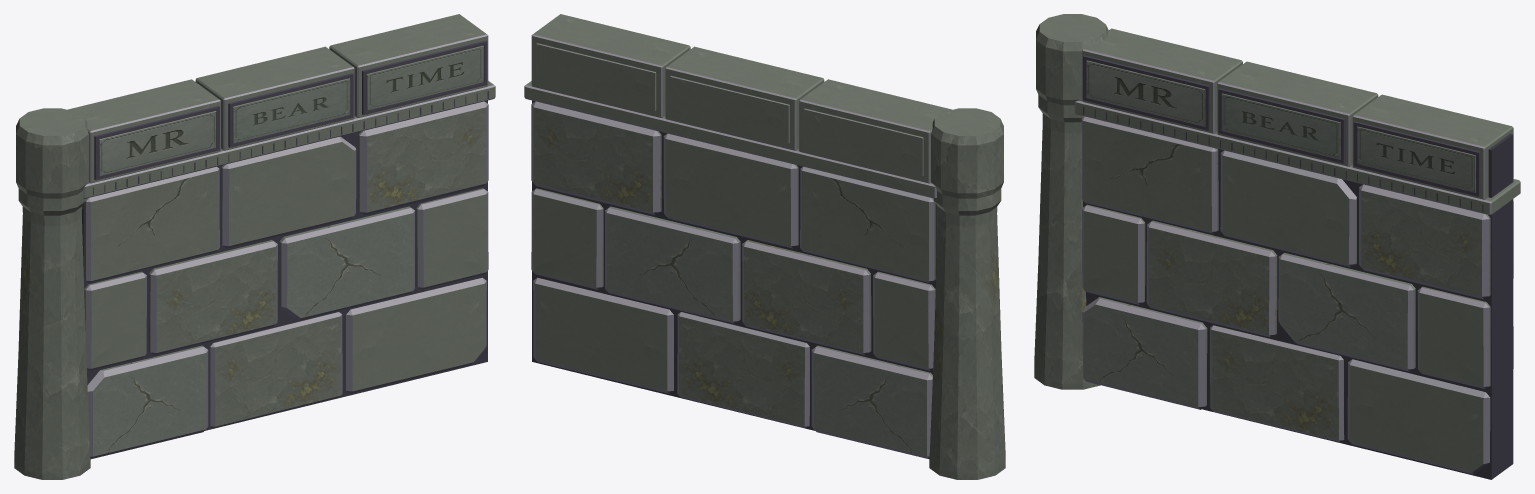
File: FIX_Wall002_L_Pillar.fbx
3 views of the same model, side by side, from view 1: azimuth 30°, elevation 25°; view 2: azimuth 150°, elevation 25°; view 3: azimuth 330°, elevation 25° (orthographic).
Parts seen in each view (by area): view 1: polySurface52; view 2: polySurface52; view 3: polySurface52.
Boxes of the visible parts, bbox=[...] form: polySurface52: bbox=[14, 14, 495, 479]; polySurface52: bbox=[524, 14, 1005, 479]; polySurface52: bbox=[1034, 14, 1520, 479].
Bounding box in the file's own units: 311 × 220 × 44.43.
15 materials, 10 textured.
